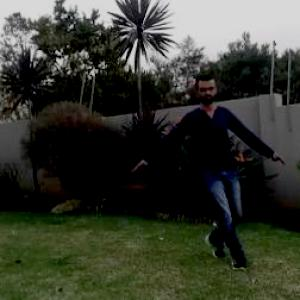land: (129, 74, 276, 255)
